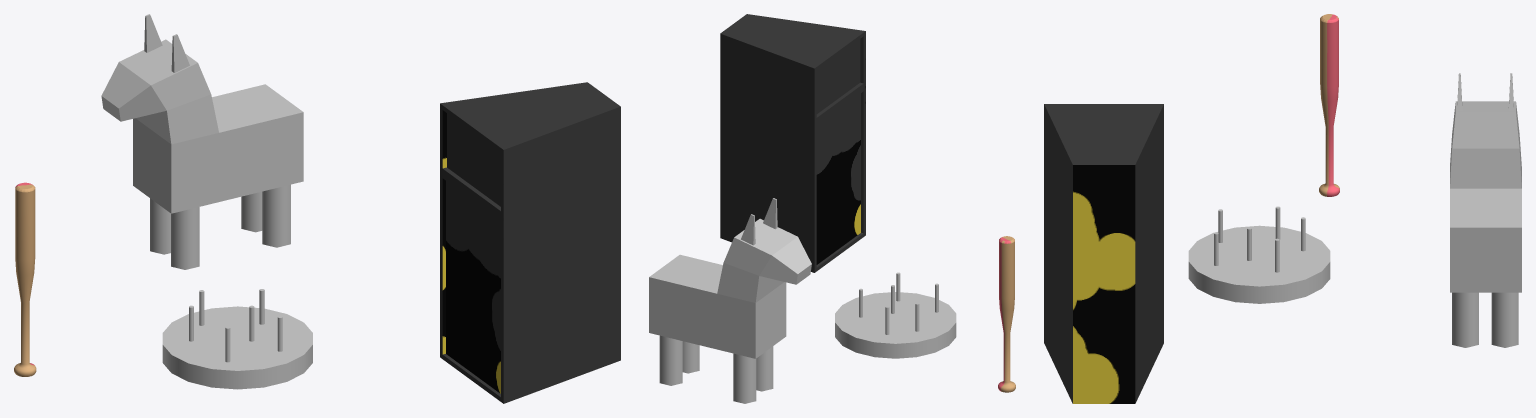
File: Asset Pack1.FBX
3 renders of one model, left to right at view 1: azimuth 30°, elevation 25°; view 2: azimuth 150°, elevation 25°; view 3: azimuth 270°, elevation 25°, orthographic. The views are drawn at different scales.
Visible parts, largest first — view 1: Enceinte, Pinata, Gateau, Batte De Baseball; view 2: Enceinte, Pinata, Gateau, Batte De Baseball; view 3: Enceinte, Pinata, Gateau, Batte De Baseball.
Part boxes in pixels (box(x1,y1,x2,y2)): Enceinte: box(440, 82, 620, 403); Pinata: box(101, 14, 303, 269); Gateau: box(162, 289, 312, 389); Batte De Baseball: box(14, 182, 36, 376); Enceinte: box(720, 14, 865, 272); Pinata: box(649, 198, 811, 403); Gateau: box(835, 272, 956, 358); Batte De Baseball: box(998, 236, 1015, 392); Enceinte: box(1044, 104, 1163, 403); Pinata: box(1450, 73, 1521, 347); Gateau: box(1188, 206, 1330, 303); Batte De Baseball: box(1319, 14, 1339, 196).
Bounding box in the file's own units: 83.69 × 43.31 × 78.4.
